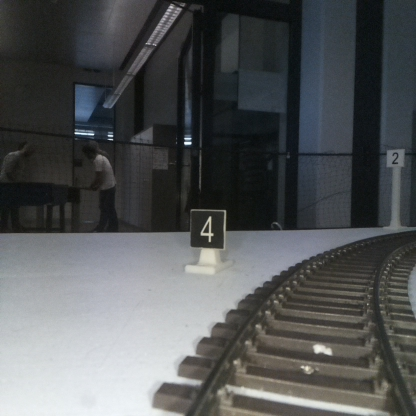black-stop-4: (190, 209, 225, 271)
white-info-2: (386, 148, 404, 227)
